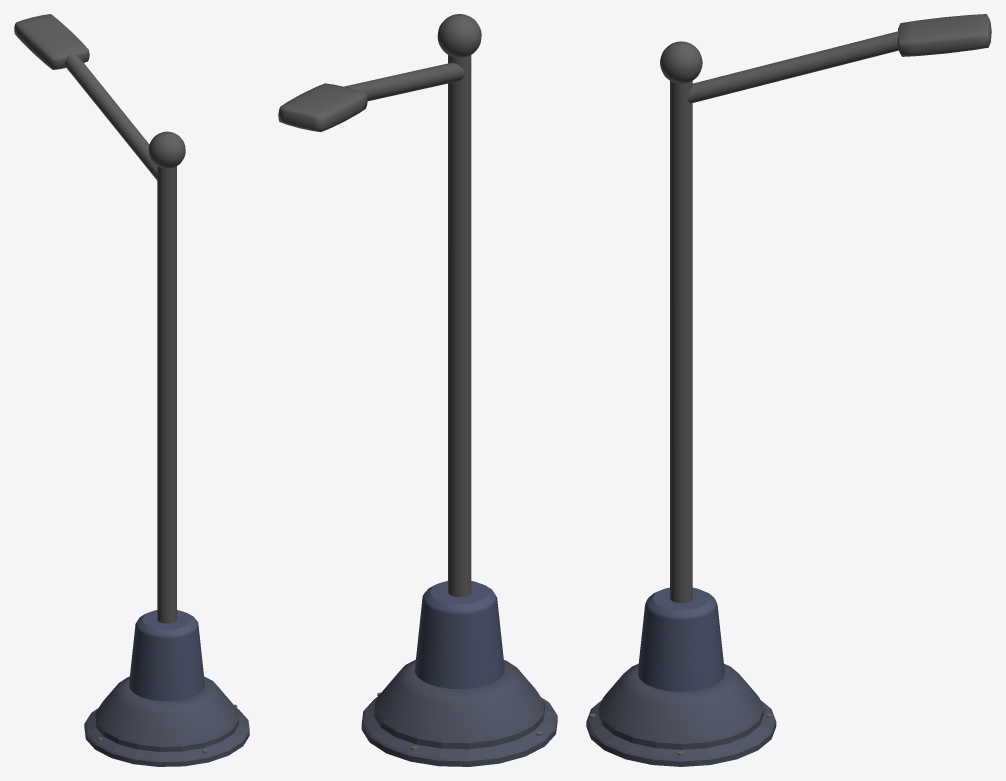
The model's file is StreetLight.fbx.
The picture shows the model from 3 angles, left to right: view 1: azimuth 30°, elevation 25°; view 2: azimuth 150°, elevation 25°; view 3: azimuth 270°, elevation 25°; orthographic projection. The views are drawn at different scales.
Visible parts, largest first — view 1: Base, Pole, Base2, Lamp, LightPole, PoleTip; view 2: Base, Pole, Base2, Lamp, LightPole, PoleTip; view 3: Base, Pole, Base2, LightPole, Lamp, PoleTip.
Boxes of the visible parts, bbox=[...] form: Base: bbox=[84, 676, 249, 766]; Pole: bbox=[157, 166, 176, 623]; Base2: bbox=[129, 610, 204, 701]; Lamp: bbox=[14, 14, 89, 69]; LightPole: bbox=[65, 53, 157, 180]; PoleTip: bbox=[148, 131, 185, 168]; Base: bbox=[361, 659, 557, 766]; Pole: bbox=[448, 55, 471, 596]; Base2: bbox=[414, 581, 504, 689]; Lamp: bbox=[278, 83, 367, 131]; LightPole: bbox=[344, 62, 464, 101]; PoleTip: bbox=[437, 14, 481, 57]; Base: bbox=[586, 664, 776, 766]; Pole: bbox=[670, 81, 692, 602]; Base2: bbox=[637, 587, 724, 691]; LightPole: bbox=[687, 31, 898, 103]; Lamp: bbox=[897, 14, 991, 56]; PoleTip: bbox=[660, 41, 702, 83].
Size of the model in its own units: 2 by 8.19 by 4.27.
